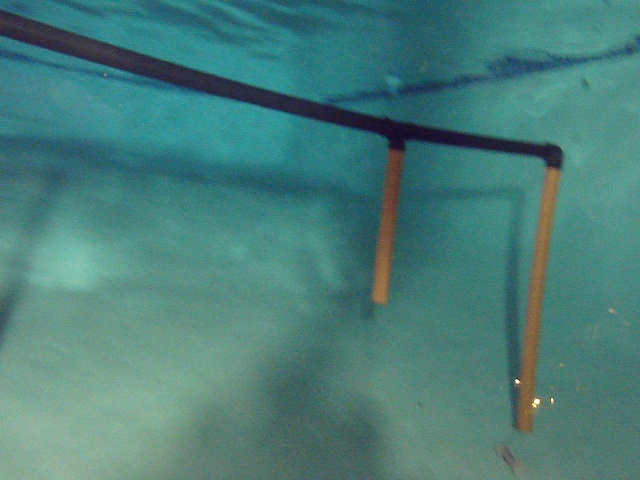Gate: (513, 163, 563, 439), (368, 143, 409, 309)
